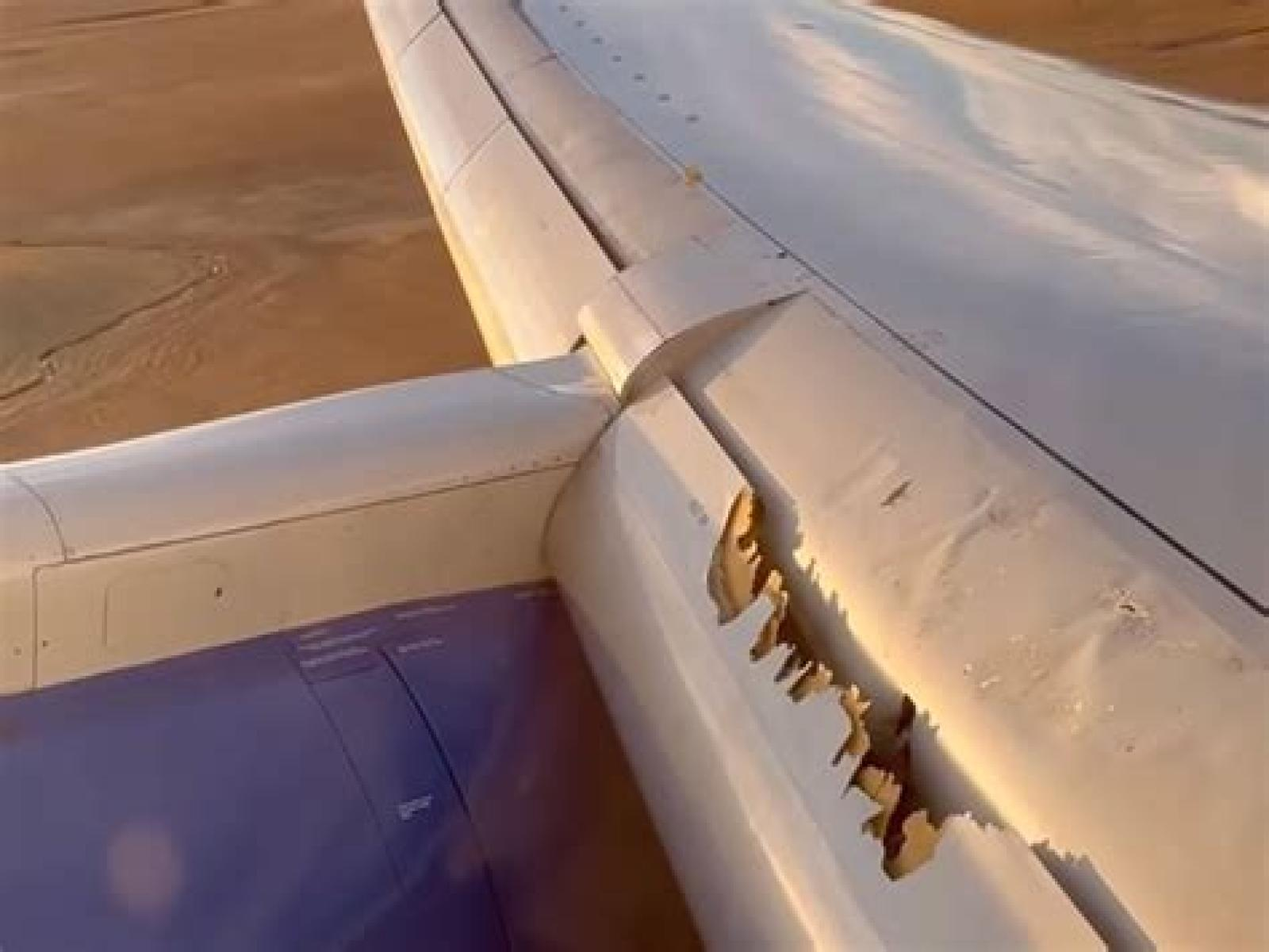Wing_damage: (715, 491, 830, 699), (835, 685, 940, 879)
